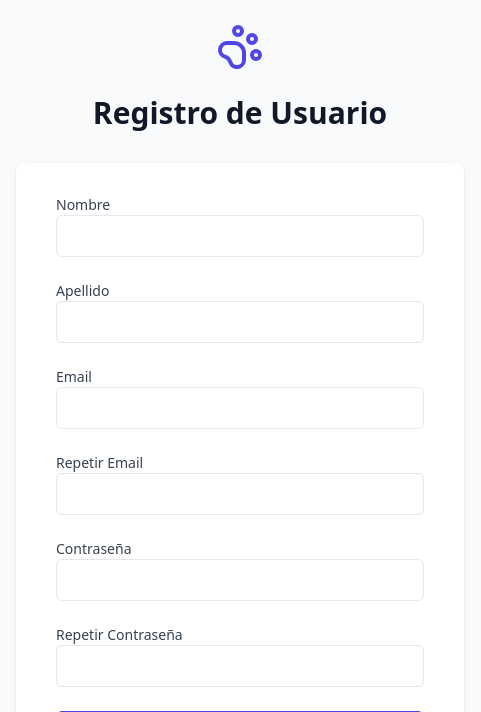
RegisterForm › Funcionalidad de registro › debe mostrar mensaje de éxito cuando el registro es exitoso
The image size is (481, 712).
Type "Juan" into the field labelled "Nombre". click: (240, 236)
box: top-left (56, 215), bottom-right (424, 257)
Type "Pérez" into the field labelled "Apellido". click: (240, 322)
box: top-left (56, 301), bottom-right (424, 343)
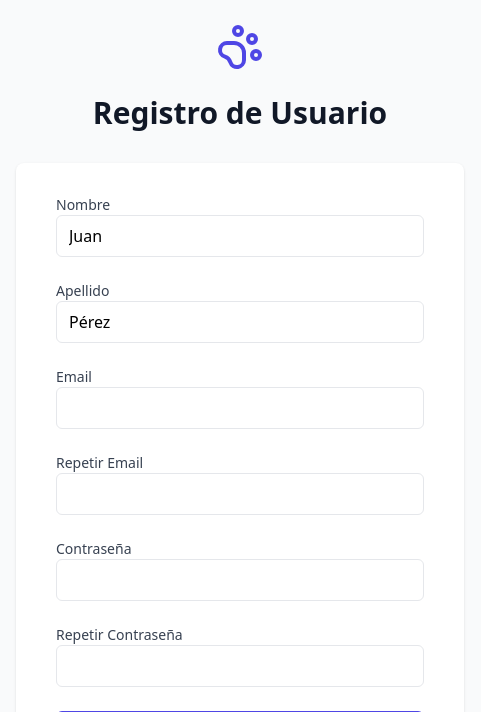
Type "juan@example.com" into the field labelled "Email". click: (240, 408)
box: top-left (56, 387), bottom-right (424, 429)
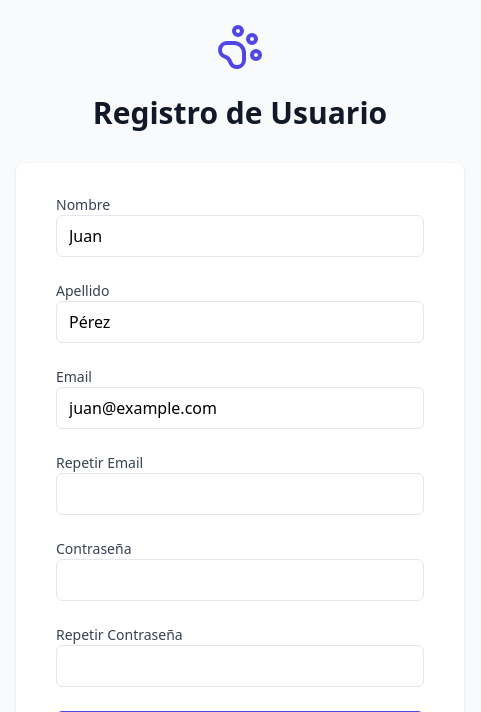
Type "juan@example.com" into the field labelled "Repetir Email". click: (240, 494)
box: top-left (56, 473), bottom-right (424, 515)
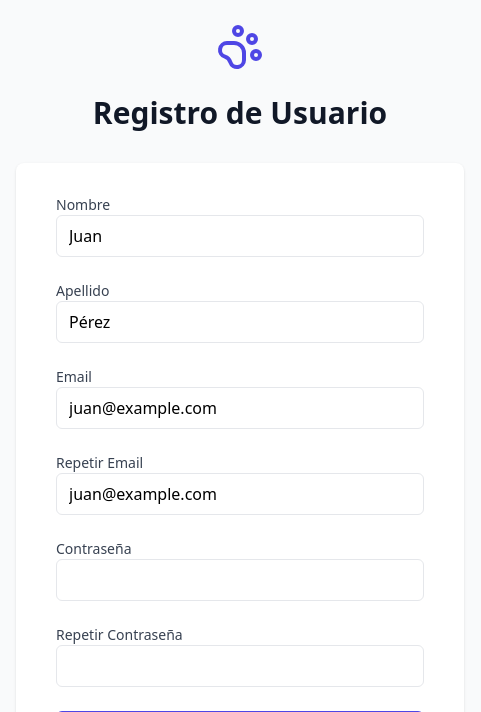
Type "123456" into the password field labelled "Contraseña". click: (240, 580)
box: top-left (56, 559), bottom-right (424, 601)
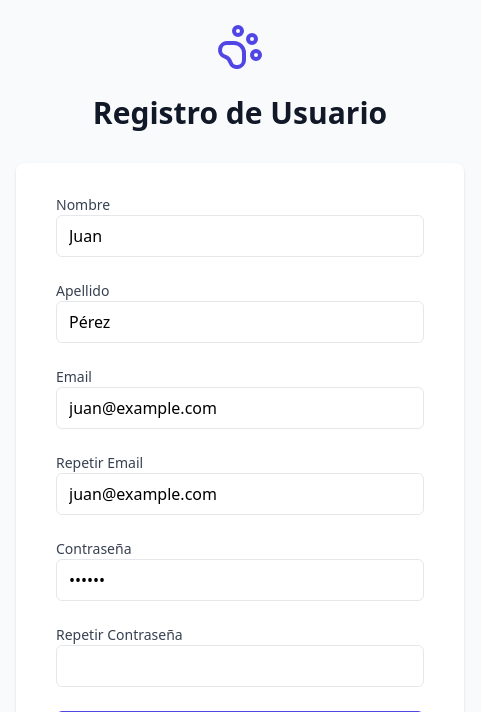
Type "123456" into the password field labelled "Repetir Contraseña". click: (240, 666)
box: top-left (56, 645), bottom-right (424, 687)
(page scrolled)
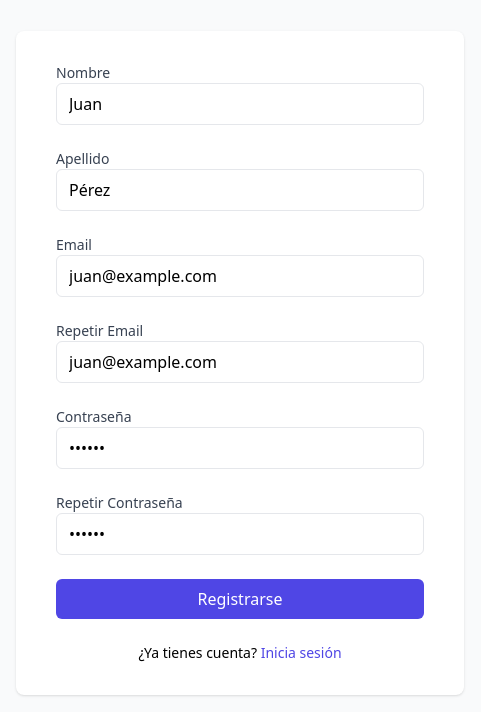
Click the button "Registrarse". click: (240, 599)
box: top-left (56, 579), bottom-right (424, 619)
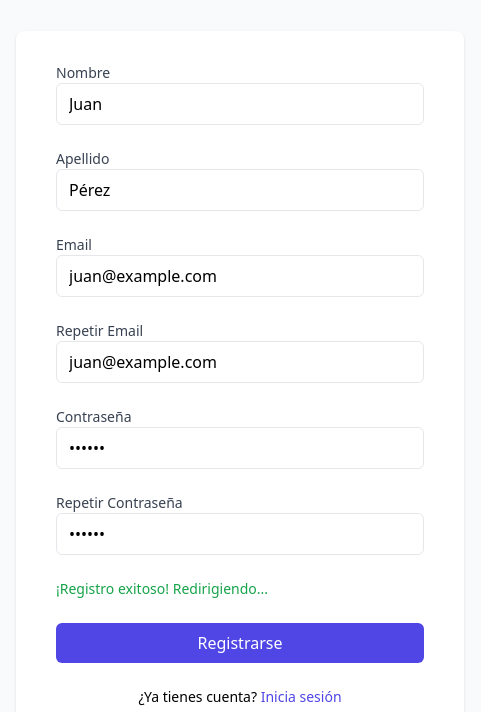
Now the text "¡Registro exitoso! Redirigiendo..." is shown, box top-left (56, 579), bottom-right (268, 598)
